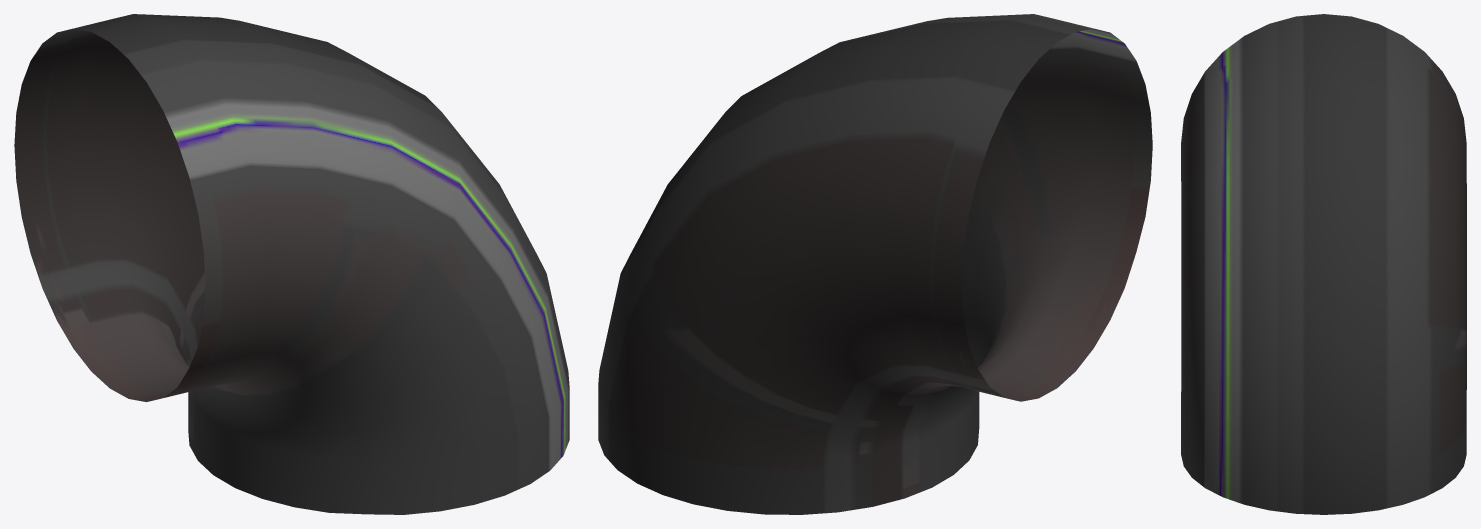
File: SM_Pipe_Angle_L.fbx
3 views of the same model, side by side, from view 1: azimuth 30°, elevation 25°; view 2: azimuth 150°, elevation 25°; view 3: azimuth 270°, elevation 25° (orthographic). The views are drawn at different scales.
Visible parts, largest first — view 1: SM_Pipe_Angle_L; view 2: SM_Pipe_Angle_L; view 3: SM_Pipe_Angle_L.
Boxes of the visible parts, x1=… form: SM_Pipe_Angle_L: x1=14, y1=14, x2=569, y2=514; SM_Pipe_Angle_L: x1=598, y1=14, x2=1152, y2=514; SM_Pipe_Angle_L: x1=1181, y1=14, x2=1466, y2=514.
Bounding box in the file's own units: 3.97 × 4.01 × 3.03.
